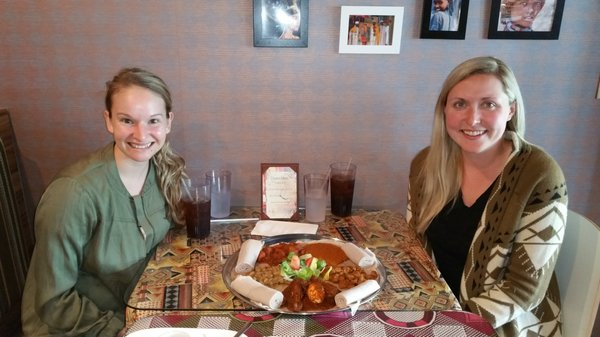pizza: (179, 177, 212, 239), (329, 160, 356, 218), (305, 172, 330, 224), (209, 169, 232, 218)
